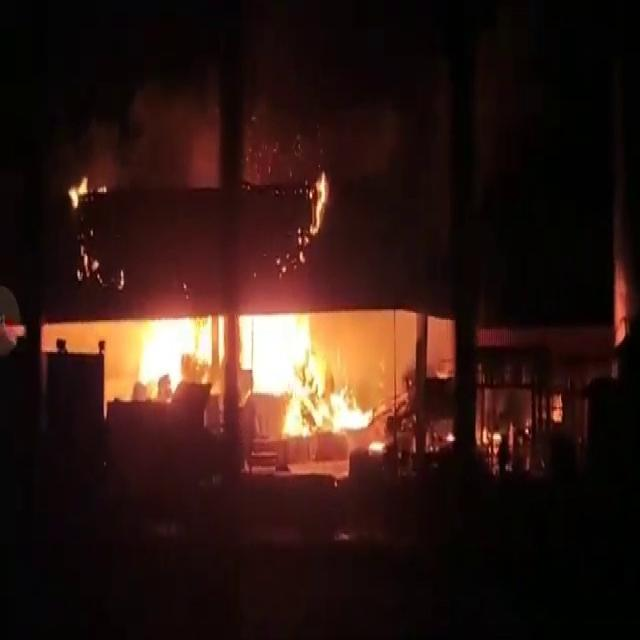Fire: (141, 320, 374, 434), (311, 176, 330, 235), (70, 174, 89, 206)
Smoke: (43, 23, 358, 158)
